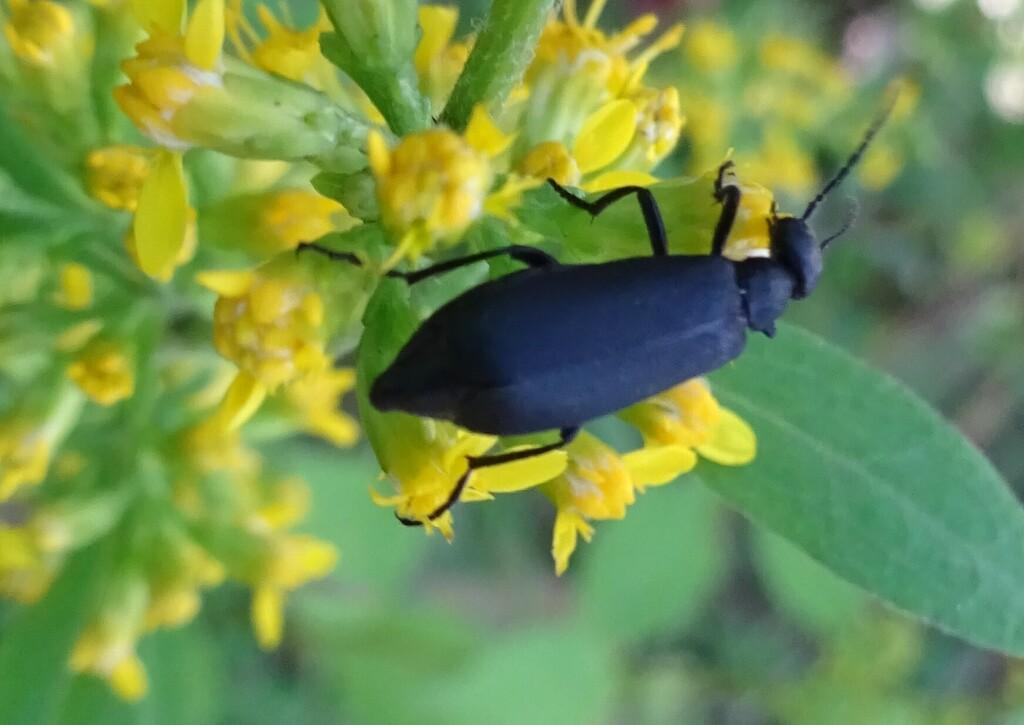blister_beetle: (240, 66, 949, 531)
